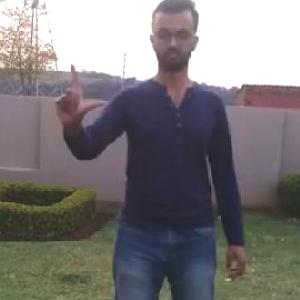land_hand: (50, 59, 108, 128)
